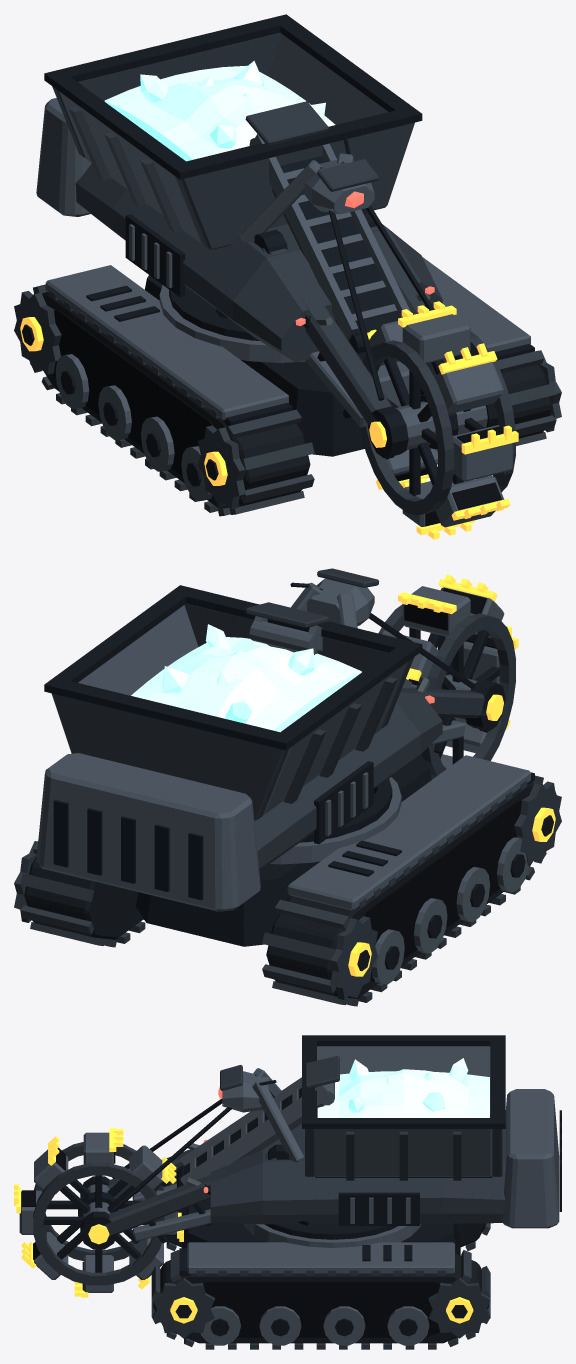
The model's file is m_harv.glb.
3 views of the same model, one above another, from view 1: azimuth 30°, elevation 25°; view 2: azimuth 150°, elevation 25°; view 3: azimuth 270°, elevation 25° (orthographic). The views are drawn at different scales.
Parts seen in each view (by area): view 1: Recolector, Bucket wheel, Mineral load; view 2: Recolector, Mineral load, Bucket wheel; view 3: Recolector, Bucket wheel, Mineral load.
Part boxes in pixels (box(x1,y1,x2,y2)): Recolector: box(14, 14, 561, 516); Bucket wheel: box(360, 301, 518, 539); Mineral load: box(104, 60, 335, 161); Recolector: box(14, 568, 561, 1006); Mineral load: box(131, 624, 361, 732); Bucket wheel: box(378, 574, 518, 779); Recolector: box(80, 1035, 561, 1349); Bucket wheel: box(14, 1128, 183, 1297); Mineral load: box(317, 1058, 489, 1117).
Bounding box in the file's own units: 2.51 × 2.15 × 4.71.
